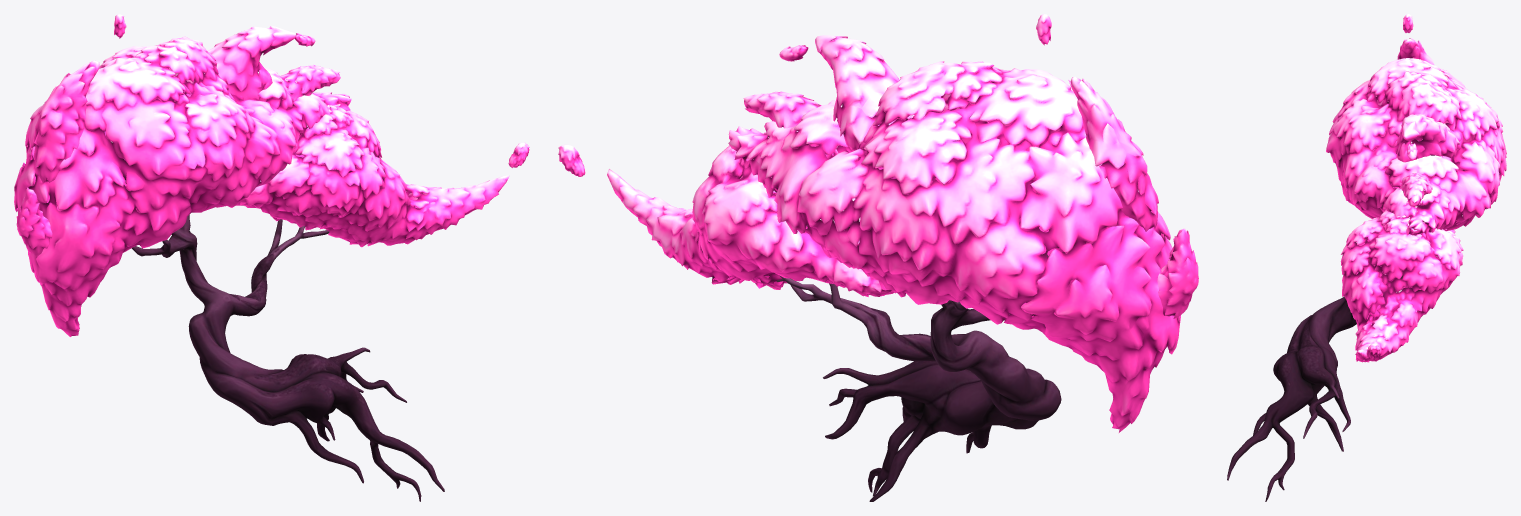
Rendered from sky_tree_01c_chaos_v35.glb.
3 views of the same model, side by side, from view 1: azimuth 30°, elevation 25°; view 2: azimuth 150°, elevation 25°; view 3: azimuth 270°, elevation 25° (orthographic). The views are drawn at different scales.
Visible parts, largest first — view 1: tree_01c; view 2: tree_01c; view 3: tree_01c.
Boxes of the visible parts, box(x1,y1,x2,y2) form: tree_01c: box(14, 14, 529, 501); tree_01c: box(558, 14, 1198, 501); tree_01c: box(1227, 14, 1506, 501).
Size of the model in its own units: 56.23 by 51.61 by 32.75.
2 materials, 2 textured.
